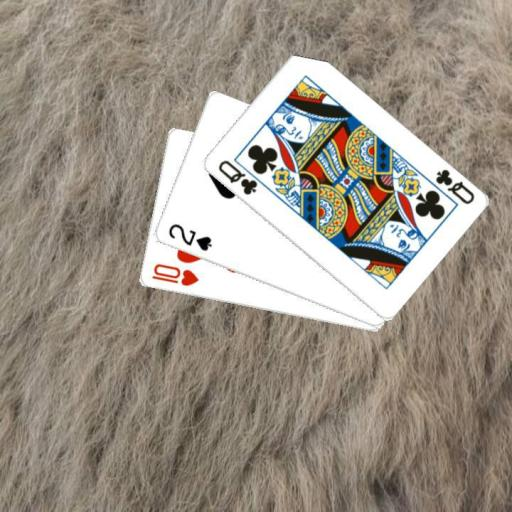10H: (149, 261, 200, 288)
2S: (165, 221, 213, 253)
QC: (214, 156, 259, 197), (432, 166, 476, 206)
